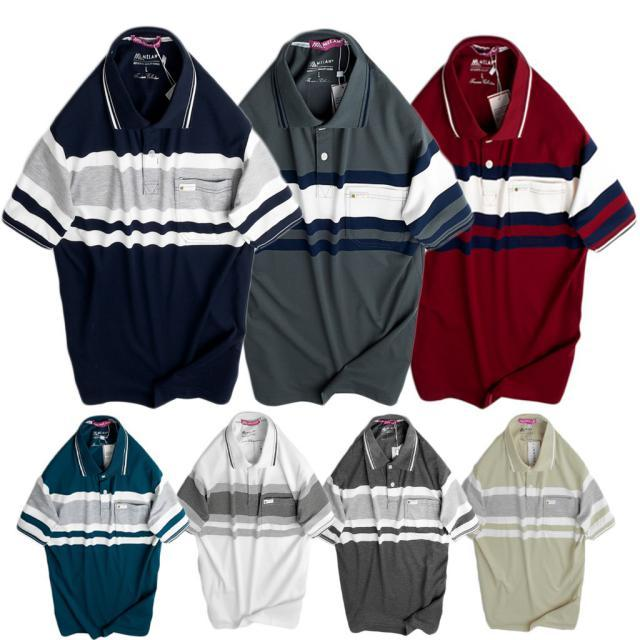Shirt: (4, 24, 298, 410), (411, 27, 637, 409), (247, 21, 467, 404), (20, 413, 182, 639), (322, 416, 479, 636), (462, 413, 616, 635), (184, 417, 334, 632)
